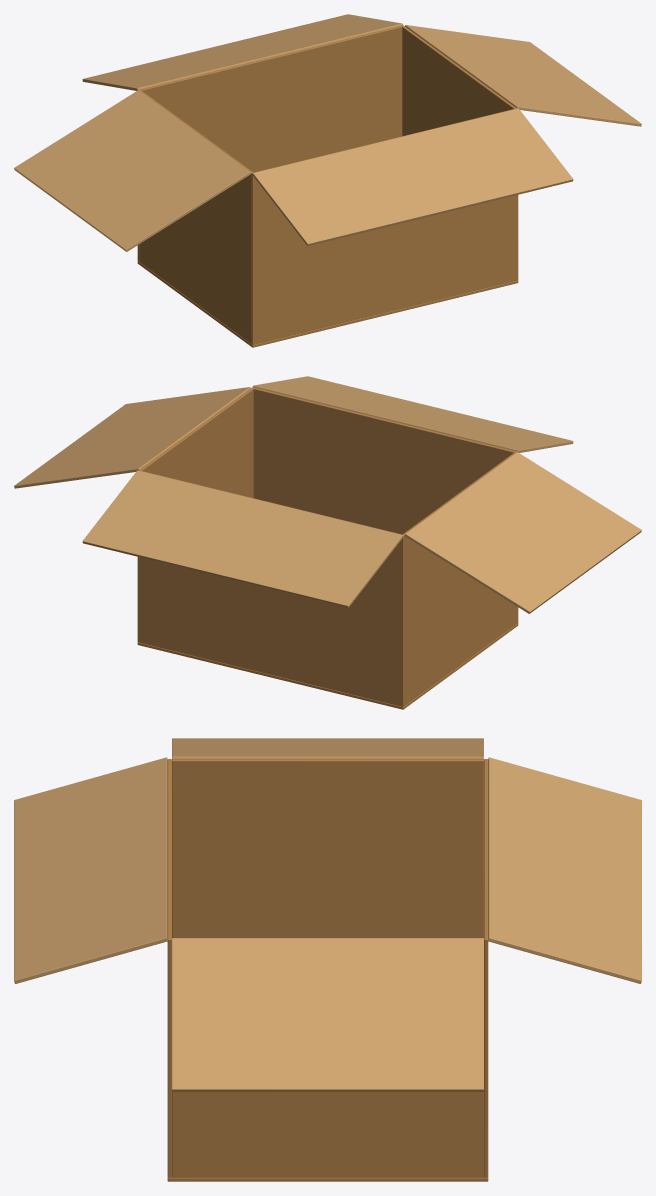
File: carton_open.glb
The picture shows the model from 3 angles, top to bottom: view 1: azimuth 30°, elevation 25°; view 2: azimuth 150°, elevation 25°; view 3: azimuth 270°, elevation 25°; orthographic projection. The views are drawn at different scales.
Parts seen in each view (by area): view 1: Carton side, Flap paper.001, Carton side.001, Flap paper.003, Carton end, Flap paper.002, Flap paper, Carton end.001, Carton bottom; view 2: Carton side.001, Flap paper, Carton side, Flap paper.003, Carton end, Flap paper.002, Flap paper.001, Carton end.001, Carton bottom; view 3: Carton end, Flap paper.002, Flap paper, Flap paper.001, Carton end.001, Flap paper.003, Carton side, Carton side.001, Carton bottom.
Boxes of the visible parts, box(x1,y1,x2,y2) form: Carton side: box(251, 108, 518, 344); Flap paper.001: box(252, 108, 573, 245); Carton side.001: box(137, 25, 404, 261); Flap paper.003: box(14, 90, 250, 251); Carton end: box(139, 90, 253, 343); Flap paper.002: box(405, 25, 641, 126); Flap paper: box(82, 14, 402, 90); Carton end.001: box(402, 26, 516, 136); Carton bottom: box(137, 261, 518, 347); Carton side.001: box(137, 470, 404, 706); Flap paper: box(82, 470, 403, 607); Carton side: box(251, 387, 518, 623); Flap paper.003: box(405, 452, 641, 613); Carton end: box(402, 452, 516, 705); Flap paper.002: box(14, 387, 250, 488); Flap paper.001: box(253, 376, 573, 452); Carton end.001: box(139, 388, 253, 498); Carton bottom: box(137, 623, 518, 709); Carton end: box(172, 759, 483, 937); Flap paper.002: box(172, 938, 483, 1092); Flap paper: box(488, 757, 641, 983); Flap paper.001: box(14, 757, 167, 983); Carton end.001: box(172, 938, 483, 1177); Flap paper.003: box(172, 738, 483, 758); Carton side: box(167, 759, 171, 1177); Carton side.001: box(484, 759, 488, 1177); Carton bottom: box(167, 1177, 488, 1181).
Size of the model in its own units: 0.7768 by 0.2518 by 0.5875.
